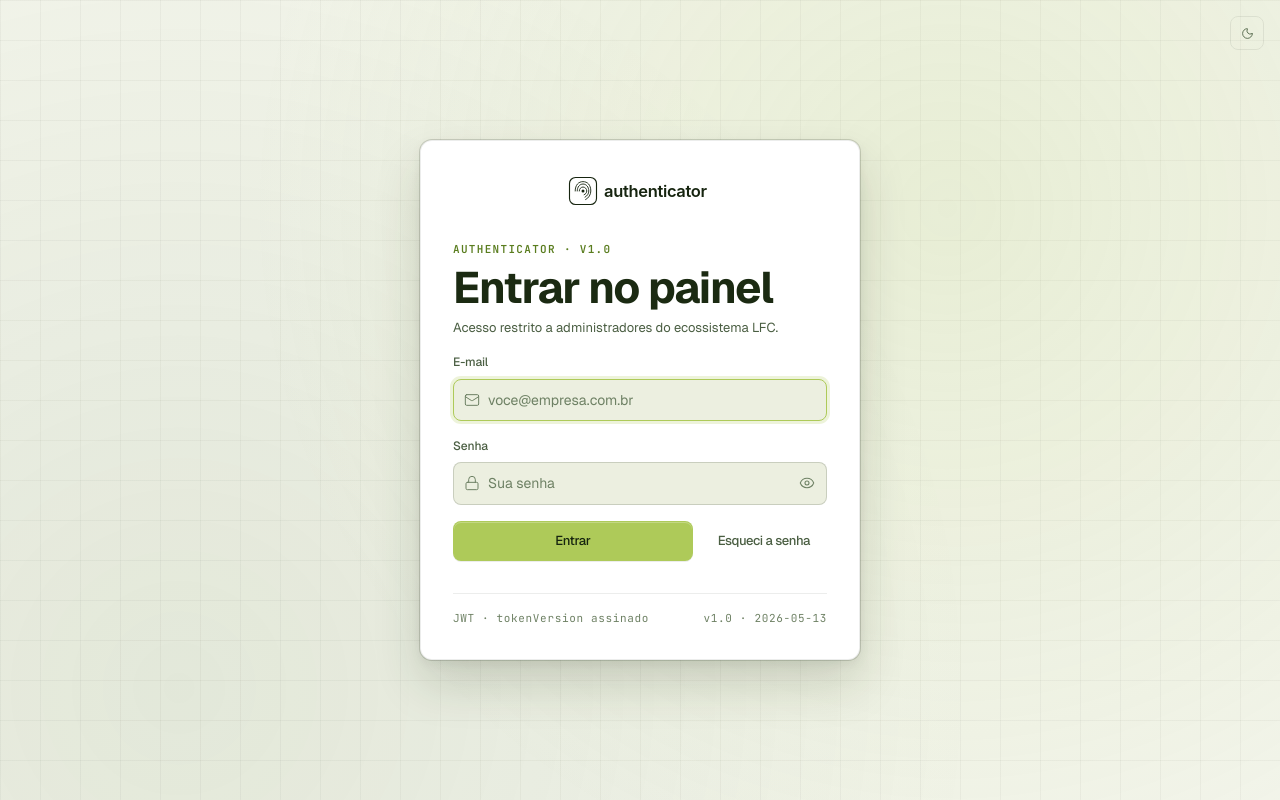
Test: LoginPage — validação client-side › exibe erro inline quando senha está vazia
The width and height of the screenshot is (1280, 800).
Step 1. Type "ada@lfc.com.br" into the field labelled "E-mail" → (640, 400), box [453,379,827,421]
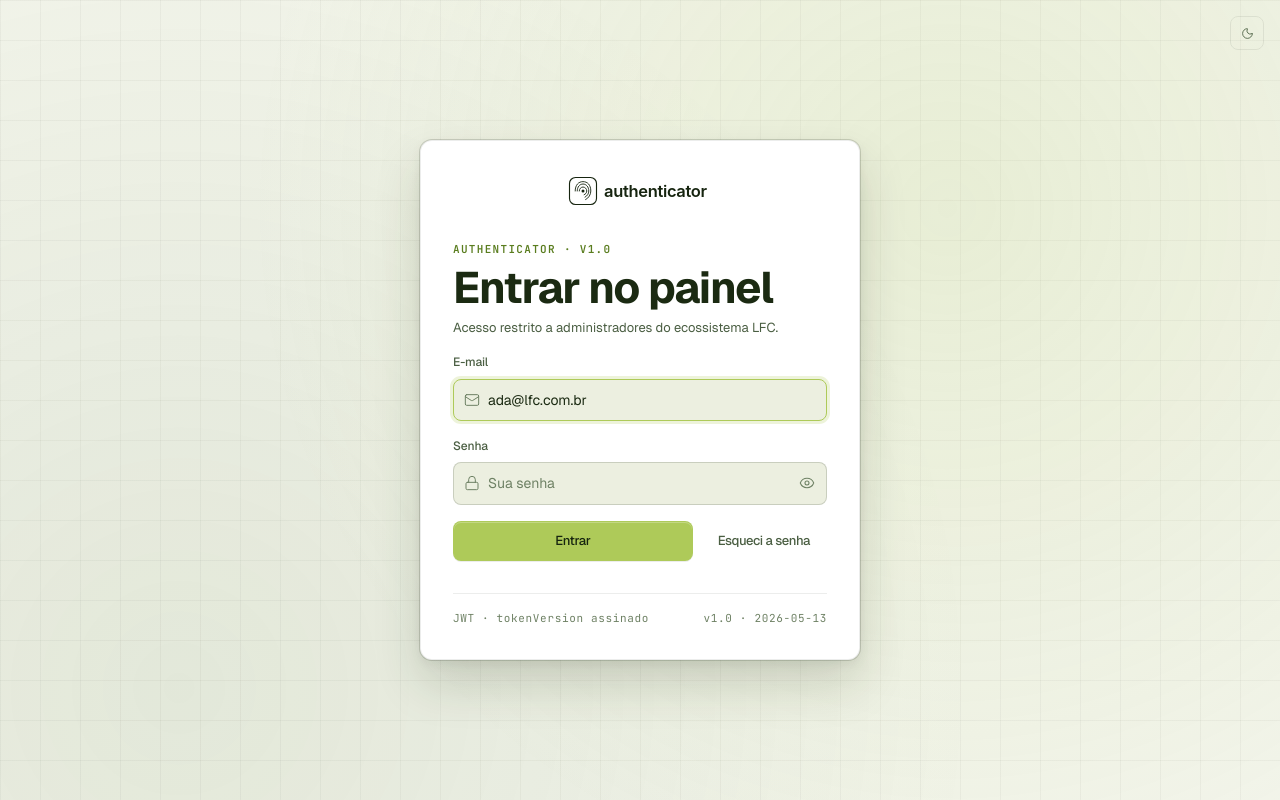
Step 2. Click the button "Entrar" → (573, 541), box [453,521,693,561]
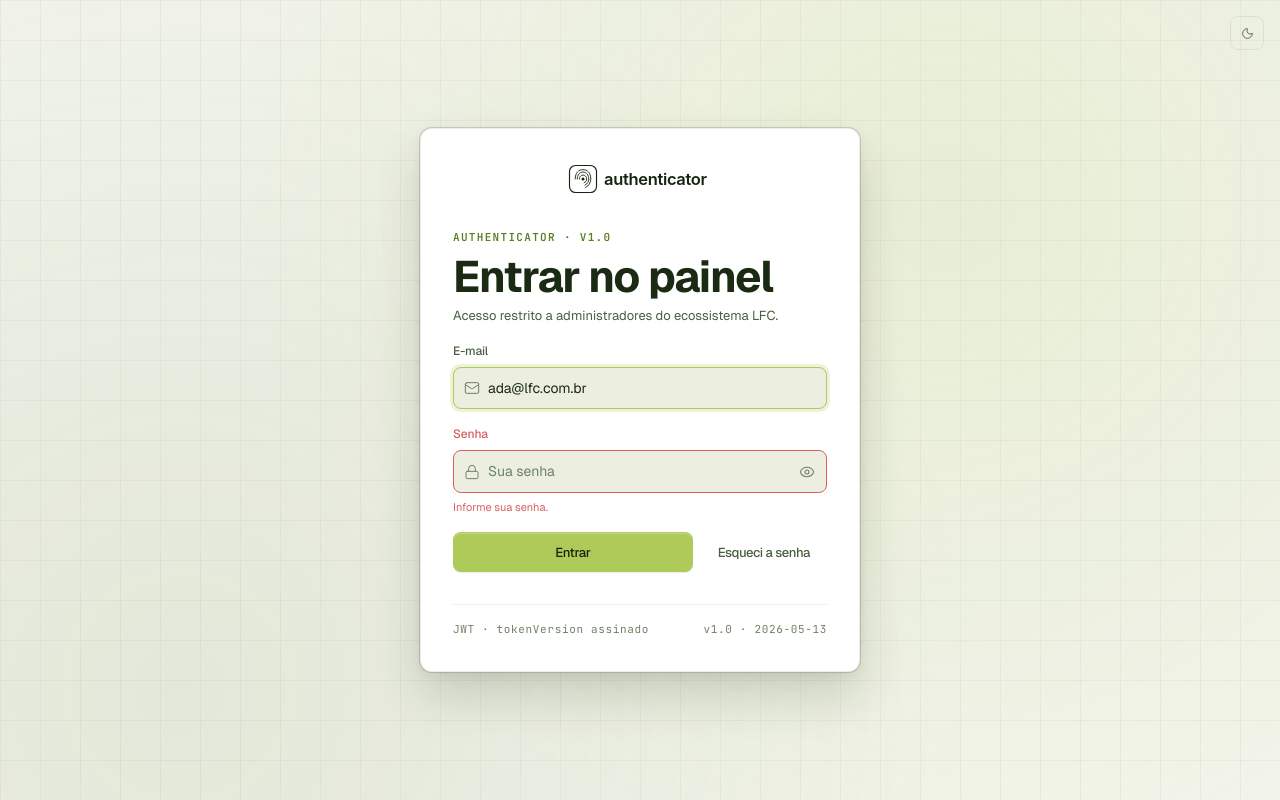
Expected: the text "Informe sua senha." is shown, [453,500,548,514]
